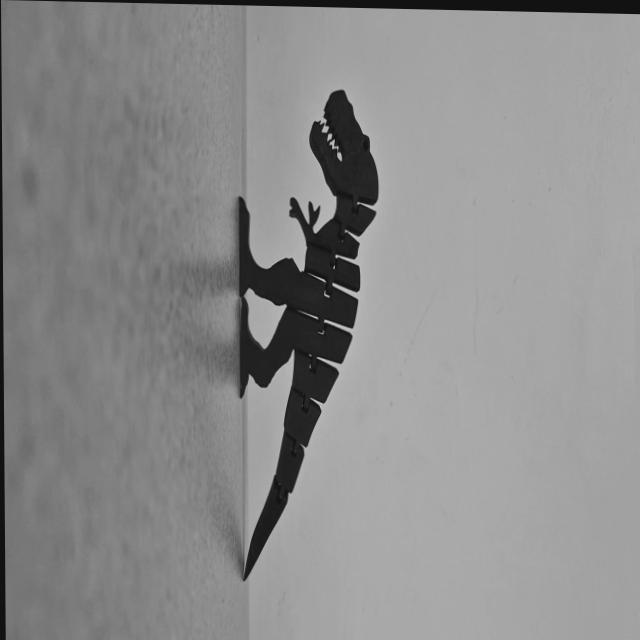dino: (236, 86, 381, 585)
